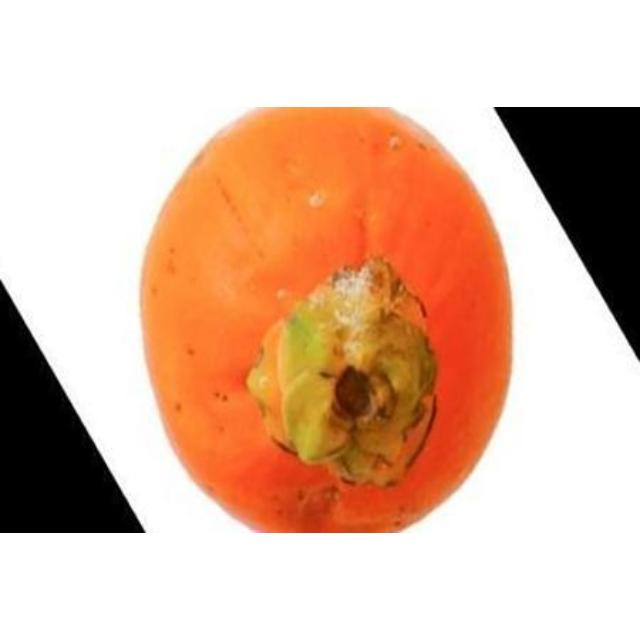good: (138, 107, 516, 532)
